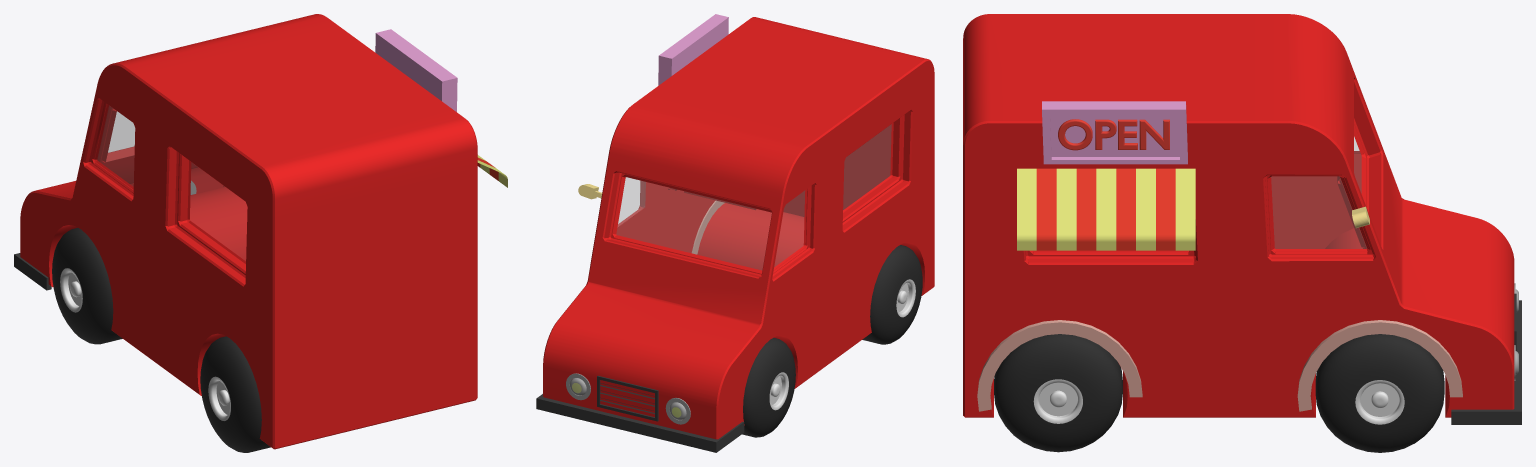
The model's file is ice cream car2 - 2.glb.
The picture shows the model from 3 angles, left to right: view 1: azimuth 30°, elevation 25°; view 2: azimuth 150°, elevation 25°; view 3: azimuth 270°, elevation 25°; orthographic projection. The views are drawn at different scales.
Parts seen in each view (by area): view 1: Cube, Cylinder.005, Cylinder.009, Cube.021, Cube.004, Cube.020, Cube.018, Cube.002; view 2: Cube, Cube.018, Cylinder.005, Cylinder.009, Cube.002, Cube.021, Cube.004, Cube.020, Cylinder.002, Cube.019, Plane, Plane.001 (+1 smaller); view 3: Cube, Cylinder.006, Cylinder.008, Cube.004, Cube.019, Circle.001, Circle, Text.002, Cube.002, Cube.007, Cube.008, Cube.010 (+6 smaller).
Boxes of the visible parts, <box> form: Cube: <box>20,14,477,449</box>; Cylinder.005: <box>200,336,270,452</box>; Cylinder.009: <box>52,228,122,344</box>; Cube.021: <box>190,162,247,260</box>; Cube.004: <box>375,29,457,111</box>; Cube.020: <box>97,106,134,186</box>; Cube.018: <box>106,112,134,161</box>; Cube.002: <box>14,253,51,290</box>; Cube: <box>543,17,934,439</box>; Cube.018: <box>616,177,771,269</box>; Cylinder.005: <box>862,245,922,344</box>; Cylinder.009: <box>742,337,795,437</box>; Cube.002: <box>536,394,744,452</box>; Cube.021: <box>843,124,891,209</box>; Cube.004: <box>658,14,728,85</box>; Cube.020: <box>774,191,804,266</box>; Cylinder.002: <box>566,373,690,424</box>; Cube.019: <box>618,177,645,226</box>; Plane: <box>597,375,658,421</box>; Plane.001: <box>600,383,654,414</box>; Cube: <box>963,14,1514,417</box>; Cylinder.006: <box>1315,334,1444,452</box>; Cylinder.008: <box>994,334,1122,452</box>; Cube.004: <box>1042,101,1187,164</box>; Cube.019: <box>1271,176,1366,248</box>; Circle.001: <box>977,320,1142,411</box>; Circle: <box>1297,320,1462,411</box>; Text.002: <box>1058,119,1169,150</box>; Cube.002: <box>1451,300,1521,424</box>; Cube.007: <box>1036,168,1056,250</box>; Cube.008: <box>1056,168,1076,250</box>; Cube.010: <box>1096,168,1116,250</box>.
Size of the model in its own units: 4.31 by 4.97 by 7.15.
